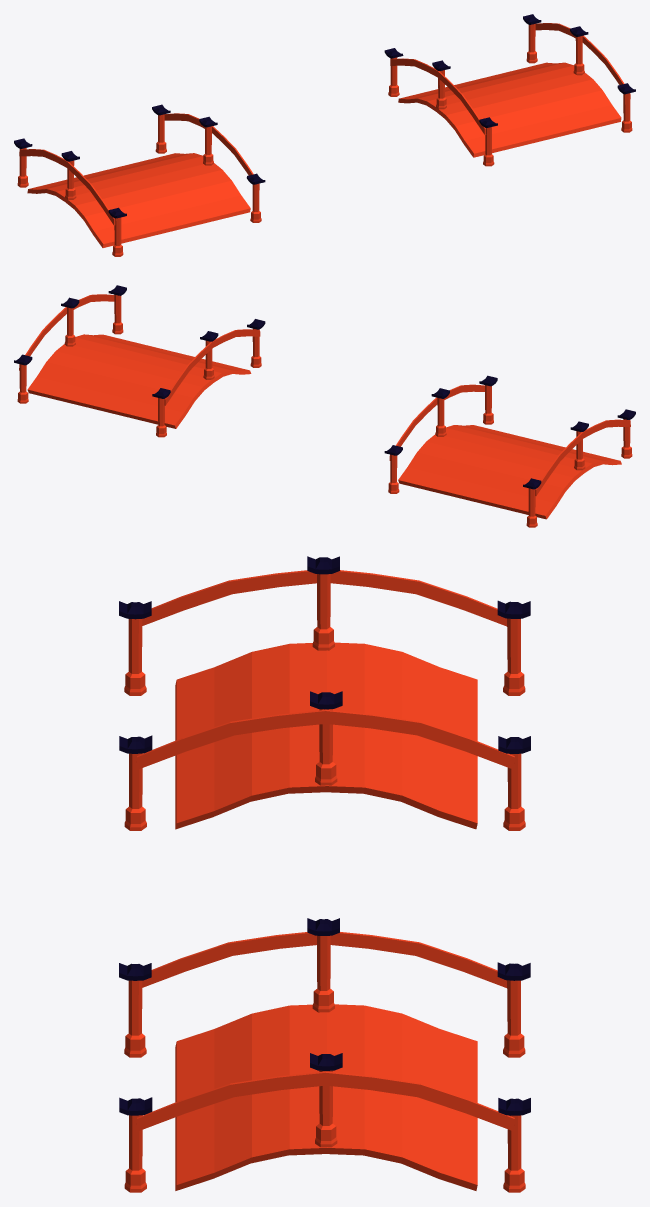
The model's file is Bridge.fbx.
3 views of the same model, one above another, from view 1: azimuth 30°, elevation 25°; view 2: azimuth 150°, elevation 25°; view 3: azimuth 270°, elevation 25° (orthographic). The views are drawn at different scales.
Parts seen in each view (by area): view 1: Bridge; view 2: Bridge; view 3: Bridge.
Part boxes in pixels (box(x1,y1,x2,y2)): Bridge: box(14, 14, 635, 256); Bridge: box(14, 285, 635, 527); Bridge: box(119, 556, 530, 1192).
Bounding box in the file's own units: 4416 × 538 × 1517.
